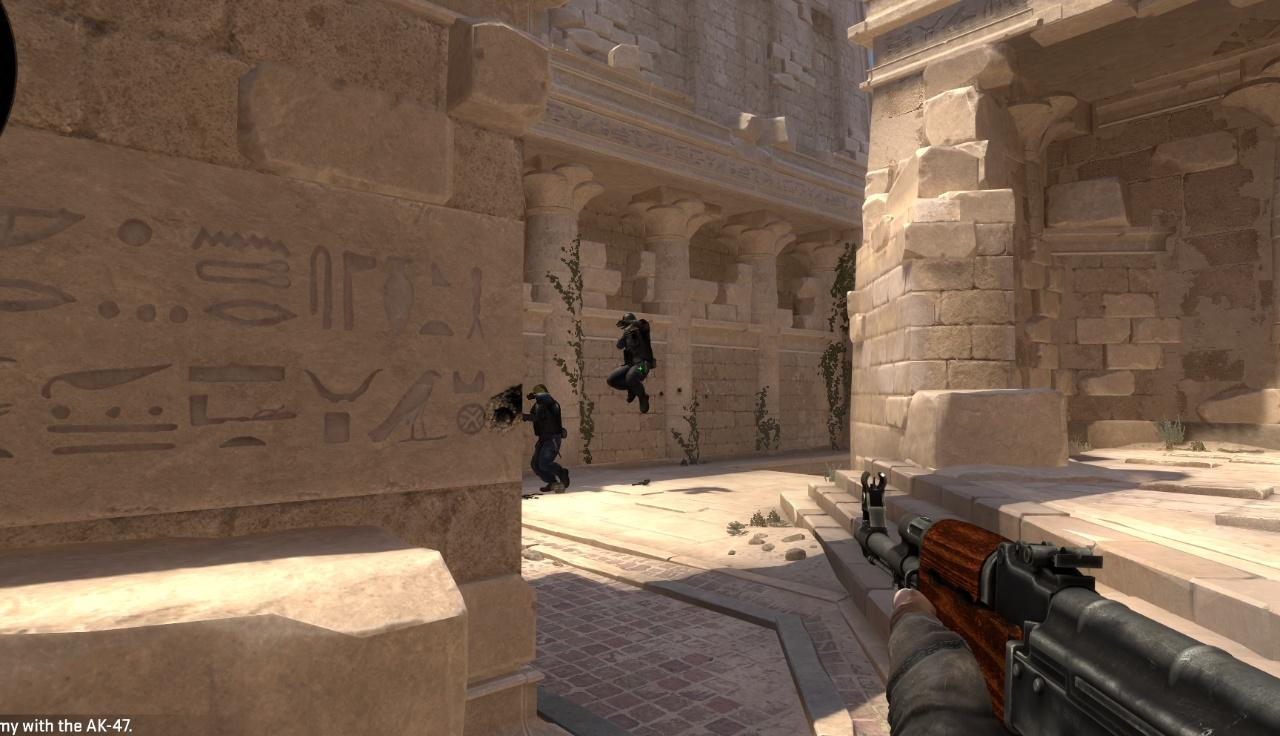ct: (527, 385, 563, 488), (614, 311, 650, 396)
cthead: (532, 384, 548, 401)
rifle: (850, 477, 1280, 736)
